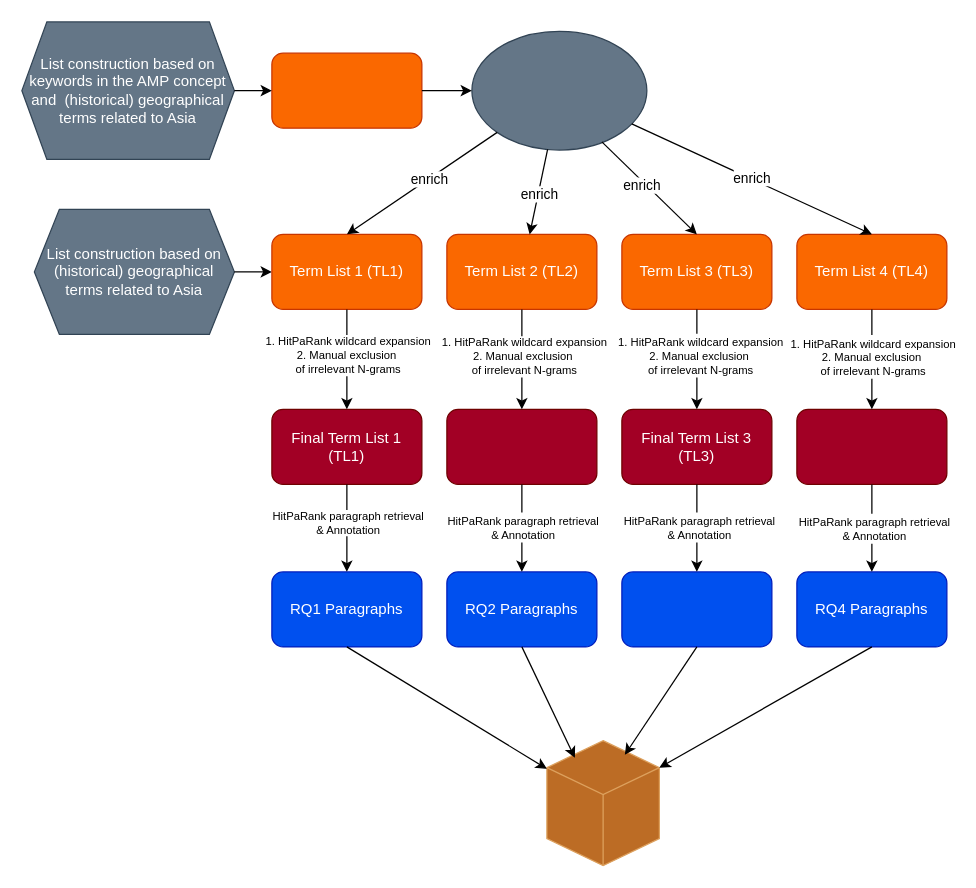
Some shapes in this 976 by 888 pixel diagram are drawn without their labels. Each missing label, with the centre of its shape:
AMP Ground Truth: (602,802)
Collect terms for RQ1-RQ4 from paragraphs with hits of TL0 terms (AutoSearch): (559,90)
Final Term List 2 (TL2): (521,446)
Final Term List 4 (TL4): (871,446)
RQ3 Paragraphs: (696,609)
Term List 0 (TL0): (346,90)
